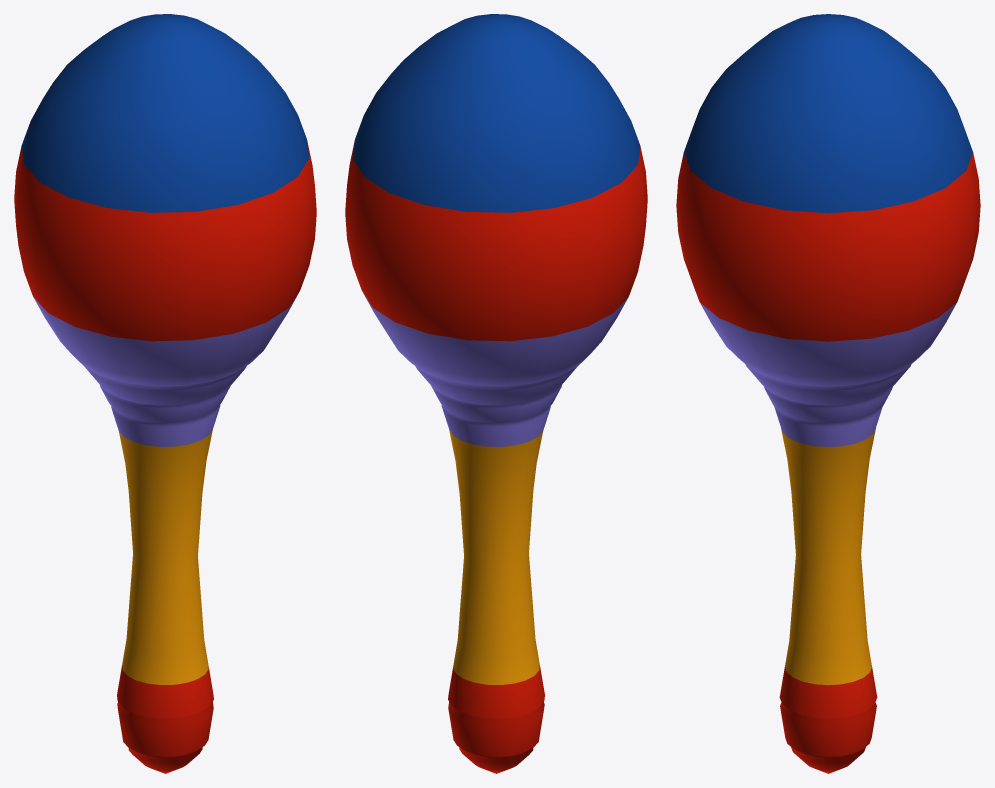
The model's file is Maraca_1.fbx.
3 views of the same model, side by side, from view 1: azimuth 30°, elevation 25°; view 2: azimuth 150°, elevation 25°; view 3: azimuth 270°, elevation 25° (orthographic).
Parts seen in each view (by area): view 1: maraca_1; view 2: maraca_1; view 3: maraca_1.
Boxes of the visible parts, x1=… form: maraca_1: x1=14, y1=14, x2=316, y2=773; maraca_1: x1=345, y1=14, x2=647, y2=773; maraca_1: x1=676, y1=14, x2=980, y2=773.
Size of the model in its own units: 0.5324 by 1.45 by 0.5324.
